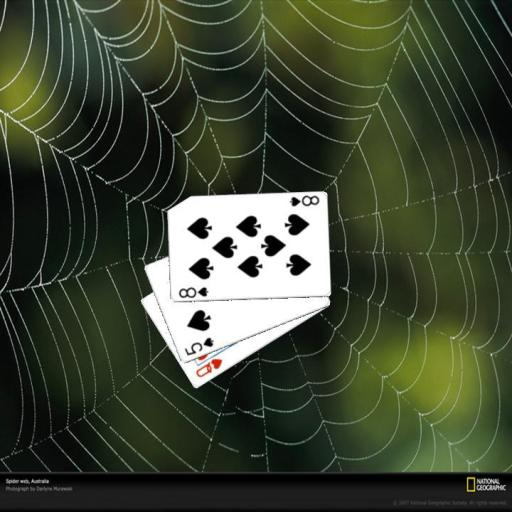5S: (181, 334, 215, 358)
8S: (176, 285, 210, 300), (286, 193, 320, 208)
QH: (193, 356, 224, 379)
